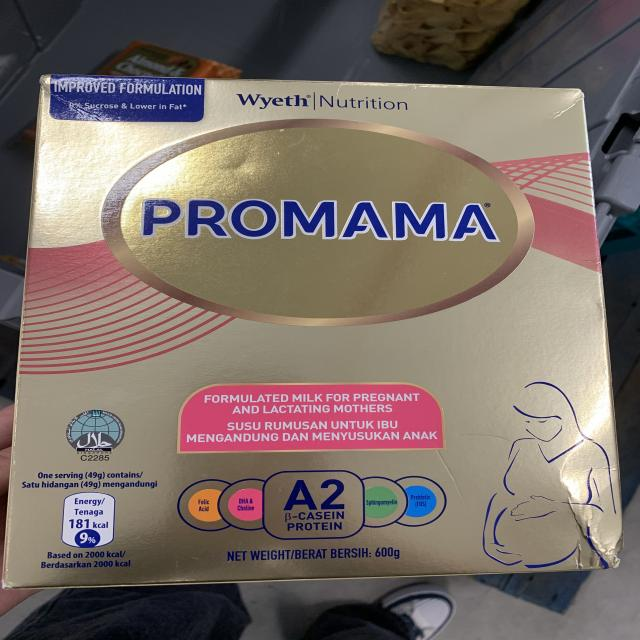object_name: (7, 76, 613, 578)
